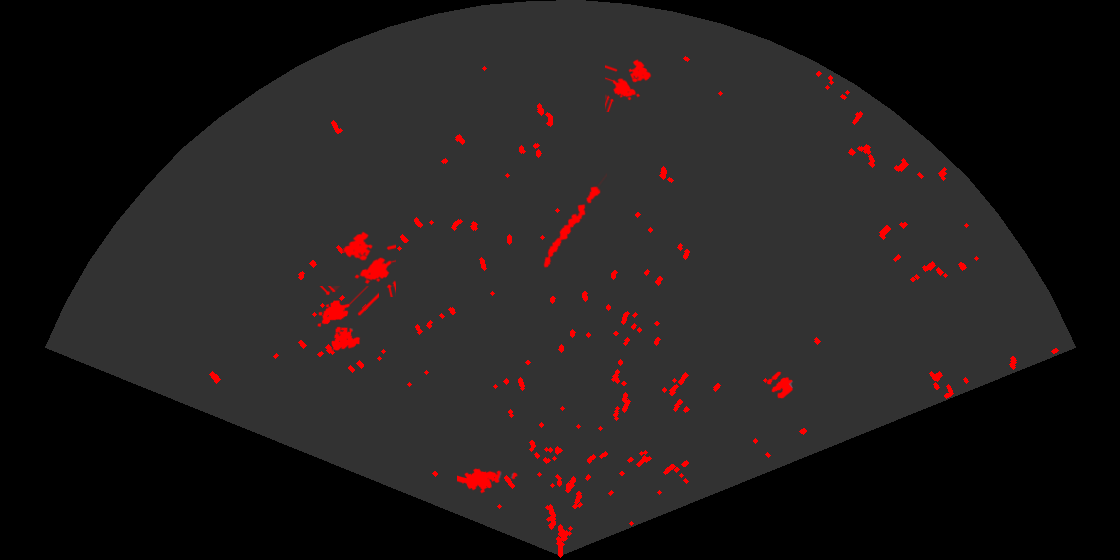ball: (765, 370, 795, 400)
cage: (316, 286, 379, 352), (342, 230, 396, 297), (605, 58, 653, 112)
chain: (542, 173, 607, 269)
frogman: (457, 467, 519, 495)
